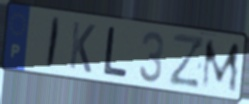3: (138, 29, 166, 84)
I: (44, 15, 63, 71)
K: (67, 19, 97, 76)
L: (102, 24, 129, 80)
M: (199, 38, 242, 94)
Z: (167, 31, 206, 90)
